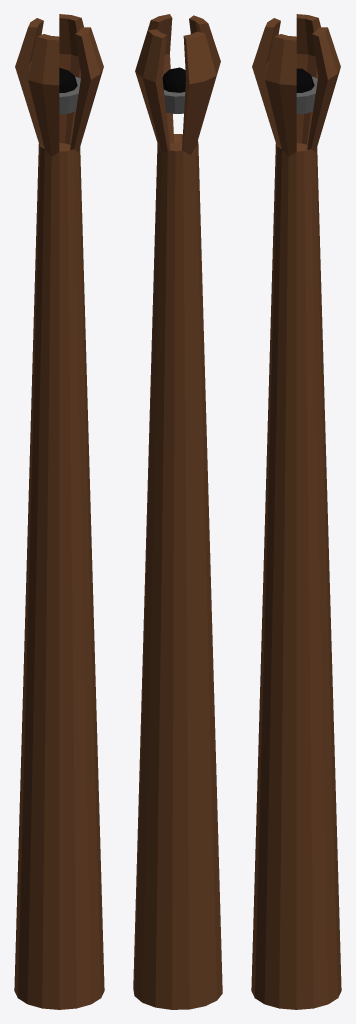
Rendered from Obor.fbx.
3 renders of one model, left to right at view 1: azimuth 90°, elevation 25°; view 2: azimuth 150°, elevation 25°; view 3: azimuth 270°, elevation 25°, orthographic.
Parts seen in each view (by area): view 1: Cylinder, Cylinder.001, Icosphere; view 2: Cylinder, Icosphere, Cylinder.001; view 3: Cylinder, Cylinder.001, Icosphere.
Part boxes in pixels (box(x1,y1,x2,y2)): Cylinder: box(14, 14, 104, 1009); Cylinder.001: box(59, 76, 80, 114); Icosphere: box(59, 68, 77, 92); Cylinder: box(133, 14, 222, 1009); Icosphere: box(162, 67, 185, 92); Cylinder.001: box(162, 76, 185, 113); Cylinder: box(251, 14, 341, 1009); Cylinder.001: box(296, 76, 317, 114); Icosphere: box(296, 68, 314, 92).
Bounding box in the file's own units: 17.26 × 203 × 17.26.
